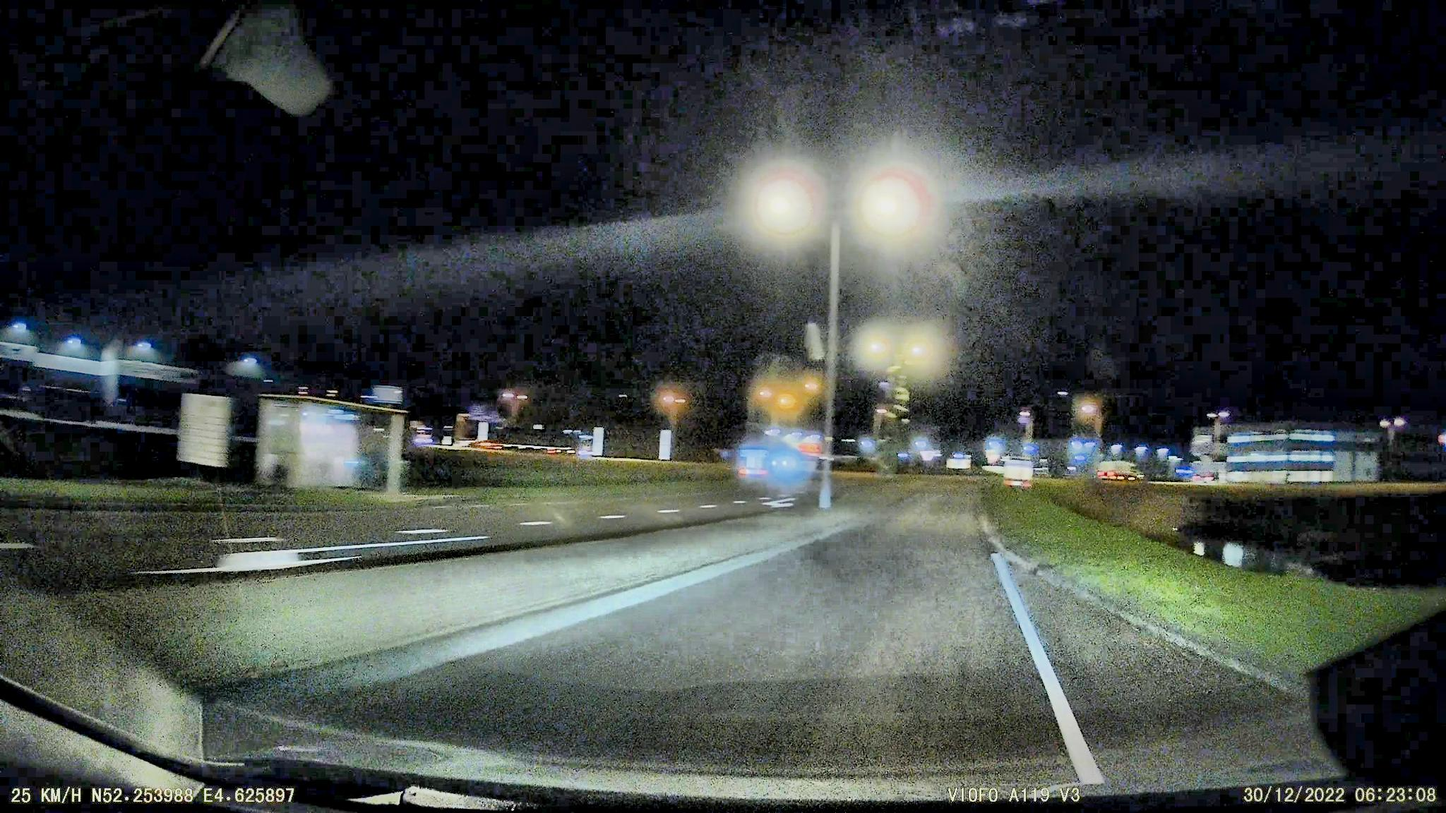Roads: (260, 480, 1331, 801)
